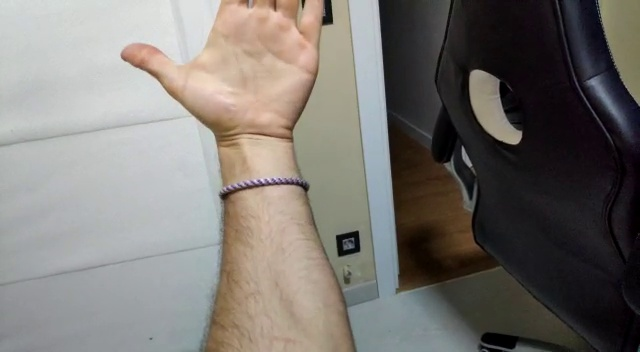Palm: (119, 1, 326, 139)
